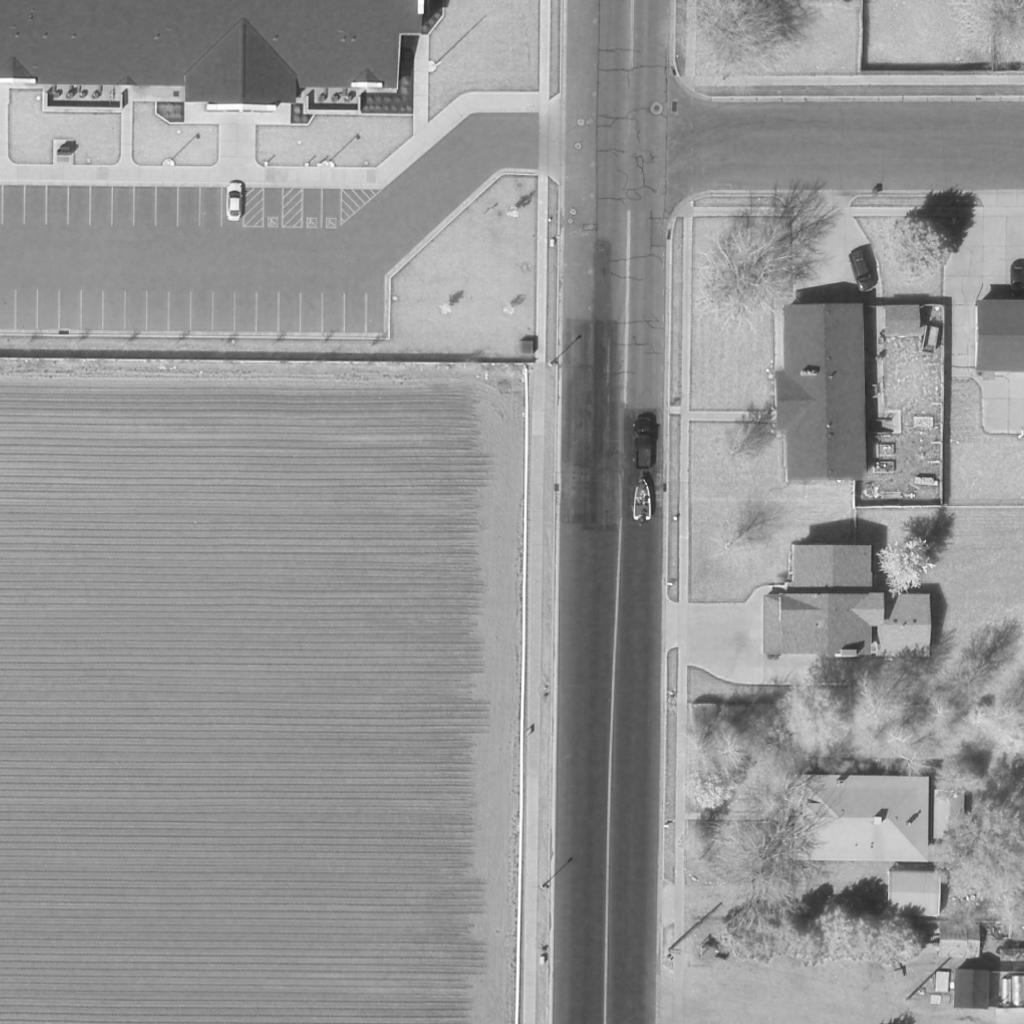vehicle: (846, 250, 876, 292), (633, 417, 655, 471), (633, 480, 653, 524), (226, 181, 244, 223), (1010, 260, 1024, 300)
